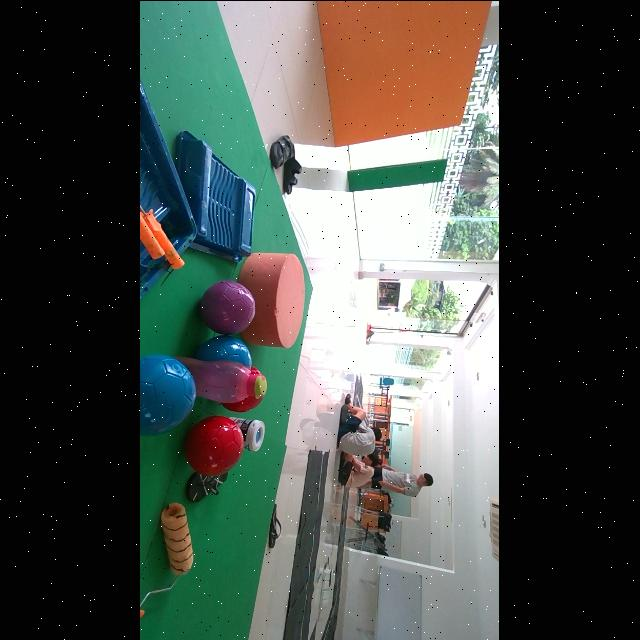B: (140, 353, 196, 436), (196, 335, 252, 368)
P: (200, 280, 256, 334)
R: (186, 415, 244, 475)
